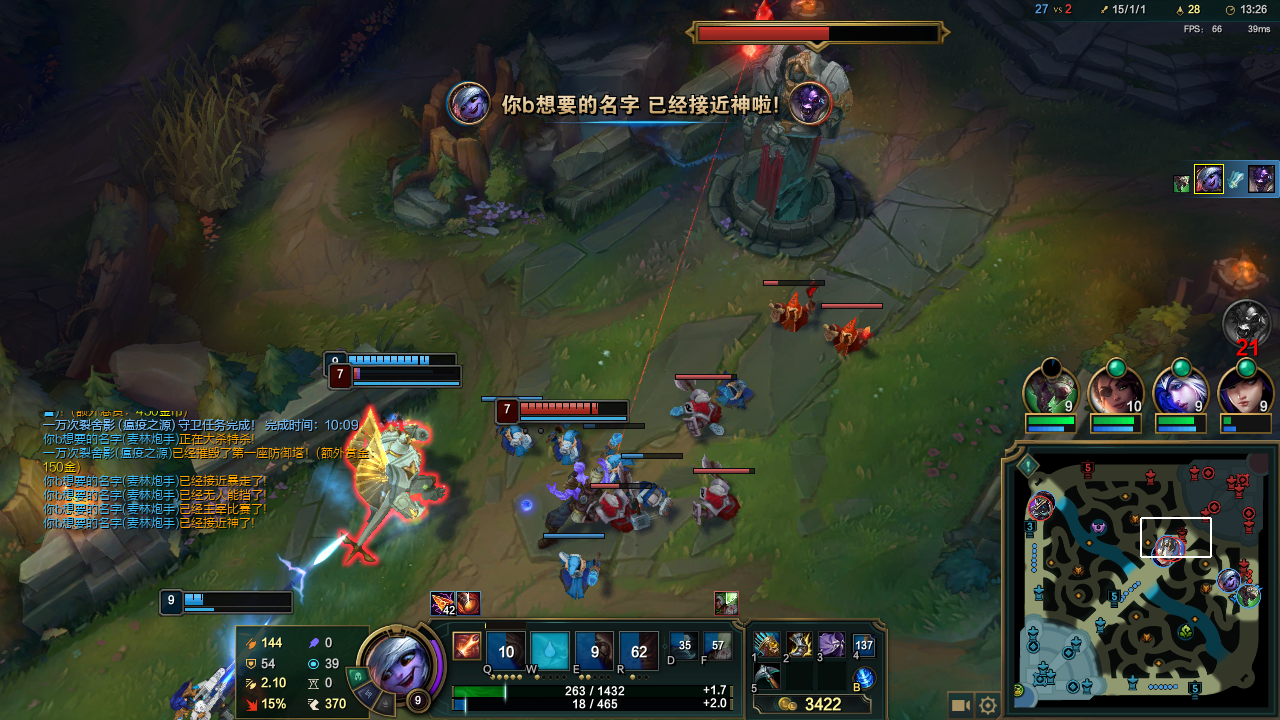DFFYT: (704, 19, 877, 264)
DFXB: (688, 466, 755, 538), (672, 380, 741, 444), (813, 308, 882, 359), (591, 486, 646, 546), (766, 290, 823, 338)
WFXB: (553, 550, 609, 601), (623, 470, 674, 514), (546, 426, 589, 465), (494, 423, 537, 460)
Yita: (1186, 672, 1212, 702)
